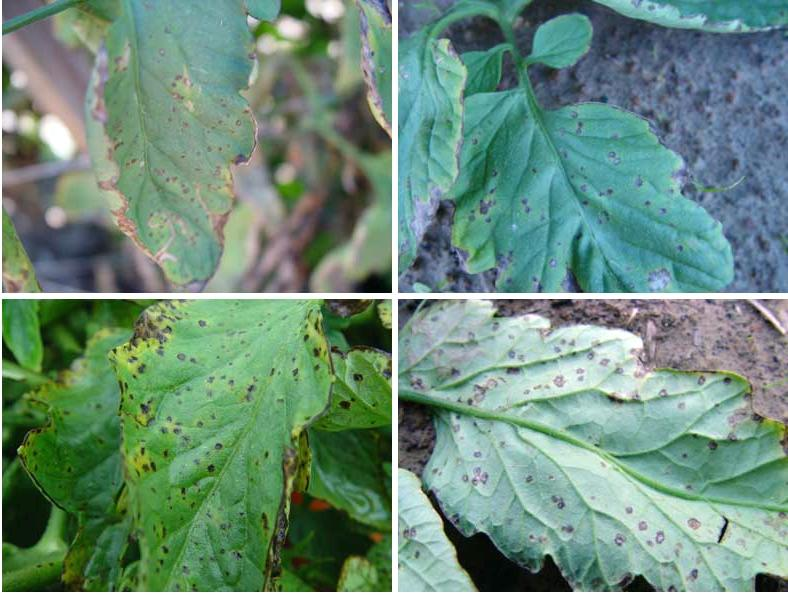Tomato leaf bacterial spot: (416, 305, 784, 587), (109, 297, 353, 583), (458, 41, 732, 288), (89, 12, 278, 291)
